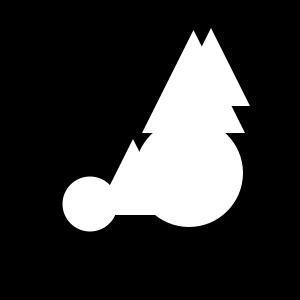rectangle: (135, 119, 243, 227), (62, 176, 118, 232)
triangle: (142, 30, 245, 133), (172, 28, 250, 106), (95, 139, 171, 215)
